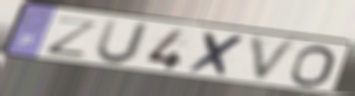4: (144, 28, 187, 71)
O: (286, 44, 338, 90)
U: (92, 17, 154, 67)
V: (247, 35, 301, 86)
X: (185, 30, 249, 79)
Z: (45, 16, 103, 59)
